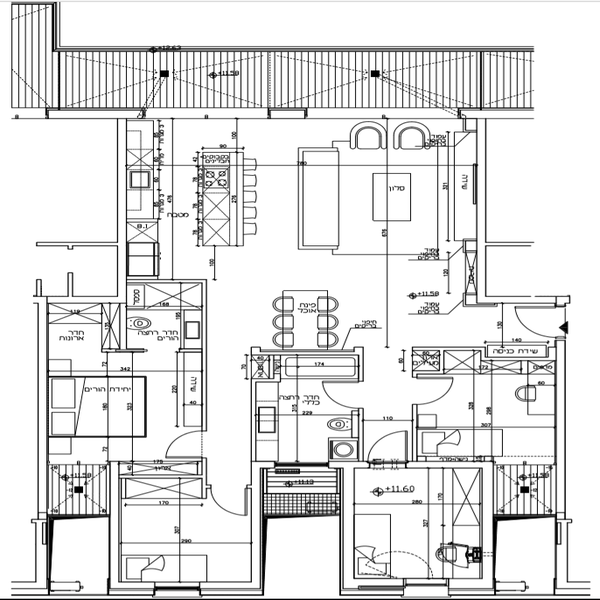door: (514, 300, 572, 344), (367, 424, 422, 464), (408, 372, 458, 407), (320, 377, 371, 408), (168, 426, 205, 460)
wall: (554, 340, 574, 590), (32, 293, 54, 519), (472, 113, 493, 305), (111, 117, 131, 307), (311, 108, 536, 124), (248, 457, 273, 596), (477, 448, 498, 600), (150, 101, 266, 124), (340, 468, 358, 595)
window: (44, 101, 147, 123), (267, 104, 310, 123)
